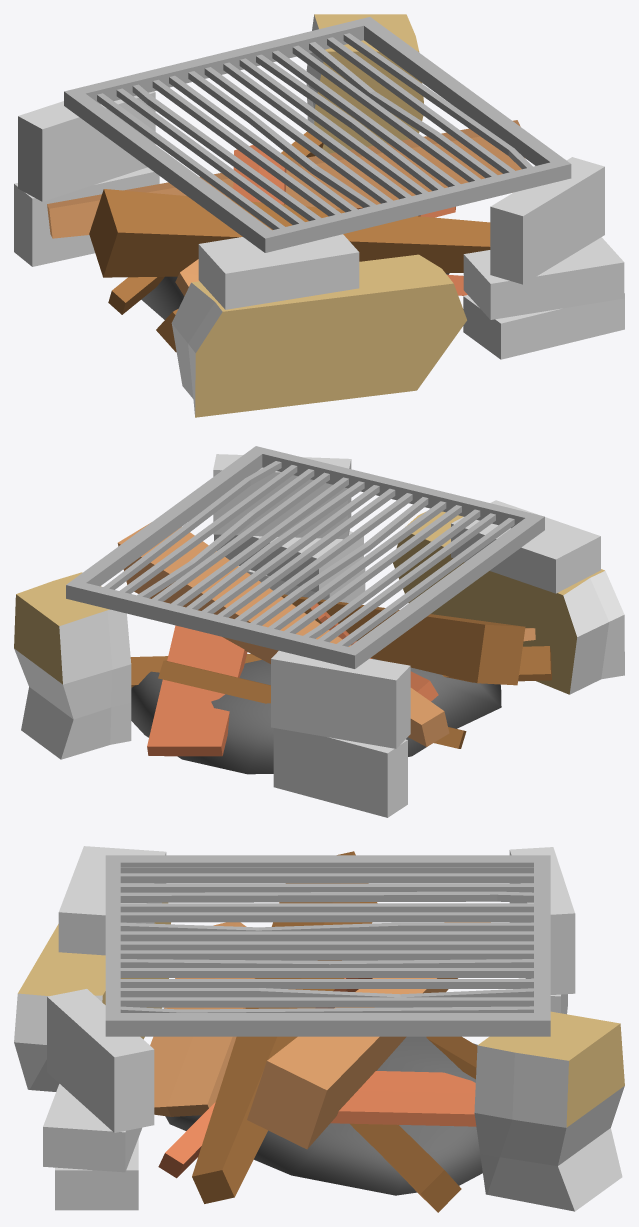
The model's file is bonfire1.1.fbx.
3 views of the same model, one above another, from view 1: azimuth 30°, elevation 25°; view 2: azimuth 150°, elevation 25°; view 3: azimuth 270°, elevation 25° (orthographic). The views are drawn at different scales.
Parts seen in each view (by area): view 1: Bongfire1.1; view 2: Bongfire1.1; view 3: Bongfire1.1.
Part boxes in pixels (x1,y1,x2,y2): Bongfire1.1: [14, 14, 624, 417]; Bongfire1.1: [14, 446, 624, 817]; Bongfire1.1: [14, 846, 624, 1212].
Bounding box in the file's own units: 123 × 43.18 × 136.
